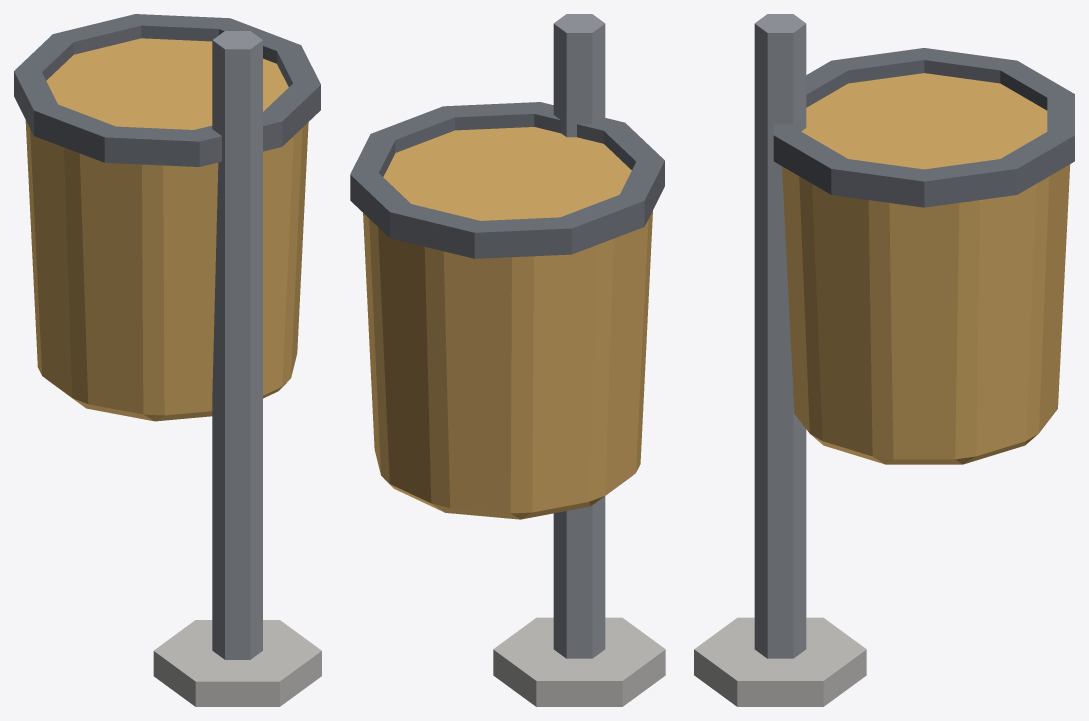
File: mobiliario__lixeira.glb
3 views of the same model, side by side, from view 1: azimuth 30°, elevation 25°; view 2: azimuth 150°, elevation 25°; view 3: azimuth 270°, elevation 25° (orthographic). The views are drawn at different scales.
Parts seen in each view (by area): view 1: mobiliario__lixeira; view 2: mobiliario__lixeira; view 3: mobiliario__lixeira.
Part boxes in pixels (bbox=[...]): mobiliario__lixeira: bbox=[14, 14, 321, 706]; mobiliario__lixeira: bbox=[350, 14, 665, 706]; mobiliario__lixeira: bbox=[694, 14, 1074, 706].
Size of the model in its own units: 0.22 by 0.5 by 0.2646.
